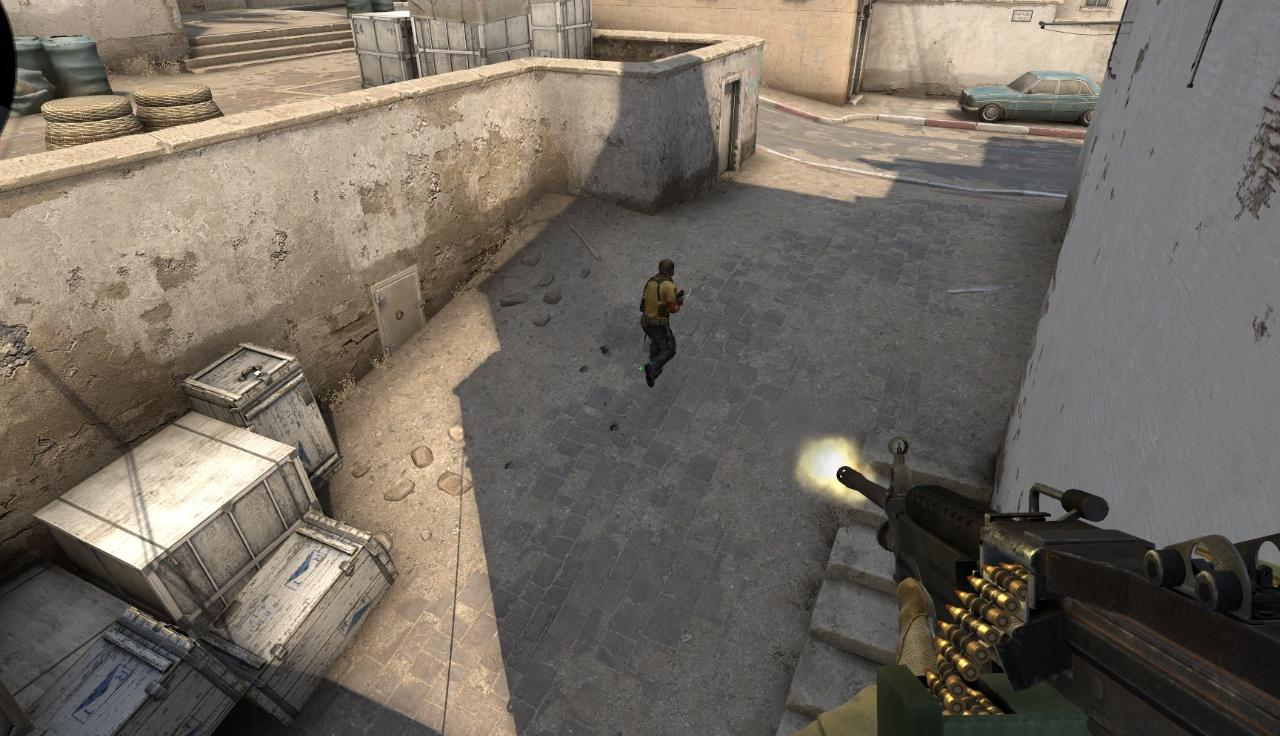rifle: (805, 436, 1280, 736)
tt: (640, 259, 684, 386)
tthead: (659, 259, 675, 279)
